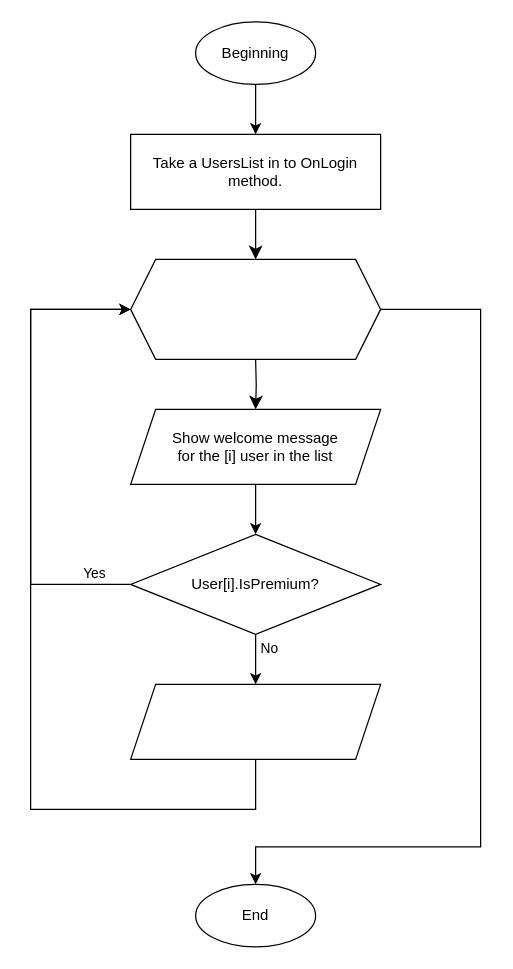
Some shapes in this 513 by 969 pixel diagram are drawn without their labels. Each missing label, with the centre of its shape:
"int i = 0; i < UserList.lenght ; i++" belongs at pixel 255 308.
"Show ads for the [i] user in the list" belongs at pixel 255 721.
